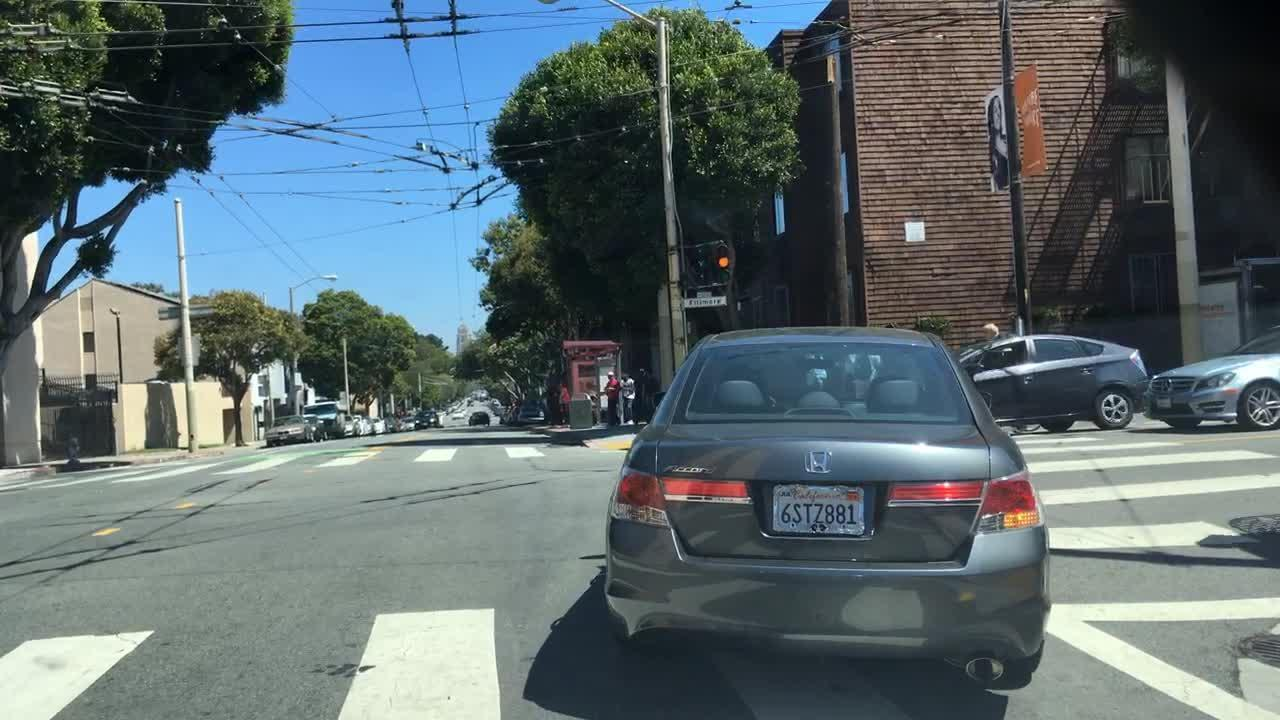Honda: (802, 446, 836, 479)
Mercedes: (1156, 372, 1176, 400)
